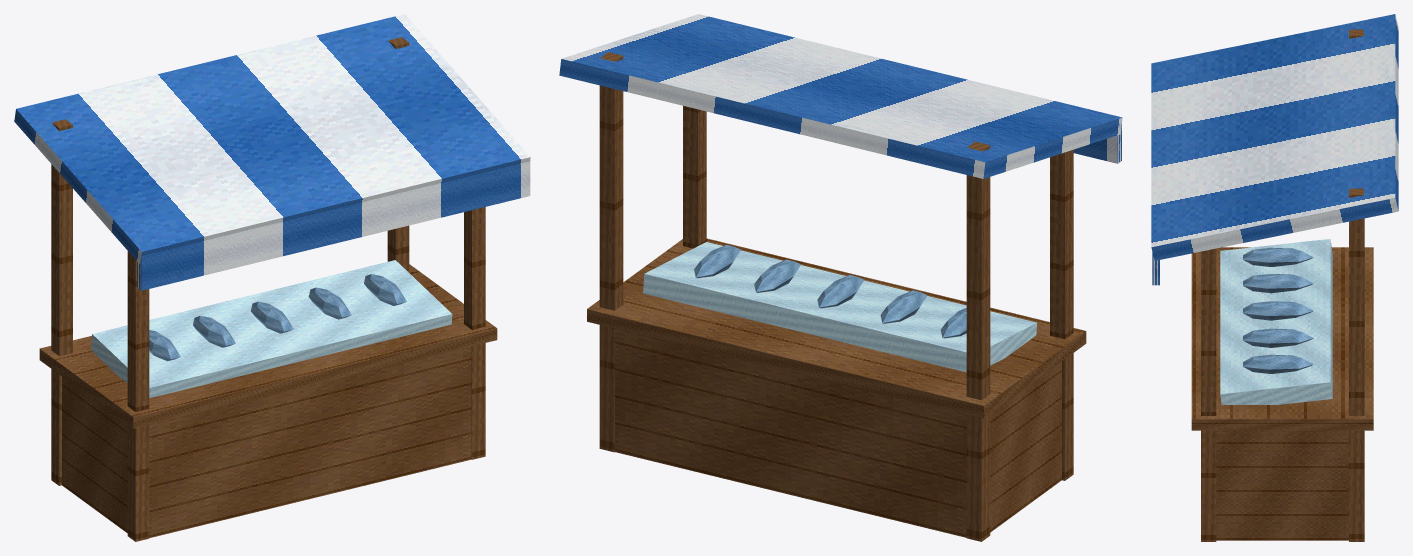
File: barraca_de_peixes.glb
3 renders of one model, left to right at view 1: azimuth 30°, elevation 25°; view 2: azimuth 150°, elevation 25°; view 3: azimuth 270°, elevation 25°, orthographic. The views are drawn at different scales.
Visible parts, largest first — view 1: barraca_de_peixes; view 2: barraca_de_peixes; view 3: barraca_de_peixes.
Part boxes in pixels (x1=…): barraca_de_peixes: x1=14, y1=14, x2=530, y2=541; barraca_de_peixes: x1=559, y1=14, x2=1122, y2=541; barraca_de_peixes: x1=1151, y1=14, x2=1398, y2=541.
Size of the model in its own units: 2.82 by 2.53 by 1.6.
Materials: 1 (1 with a texture image).
